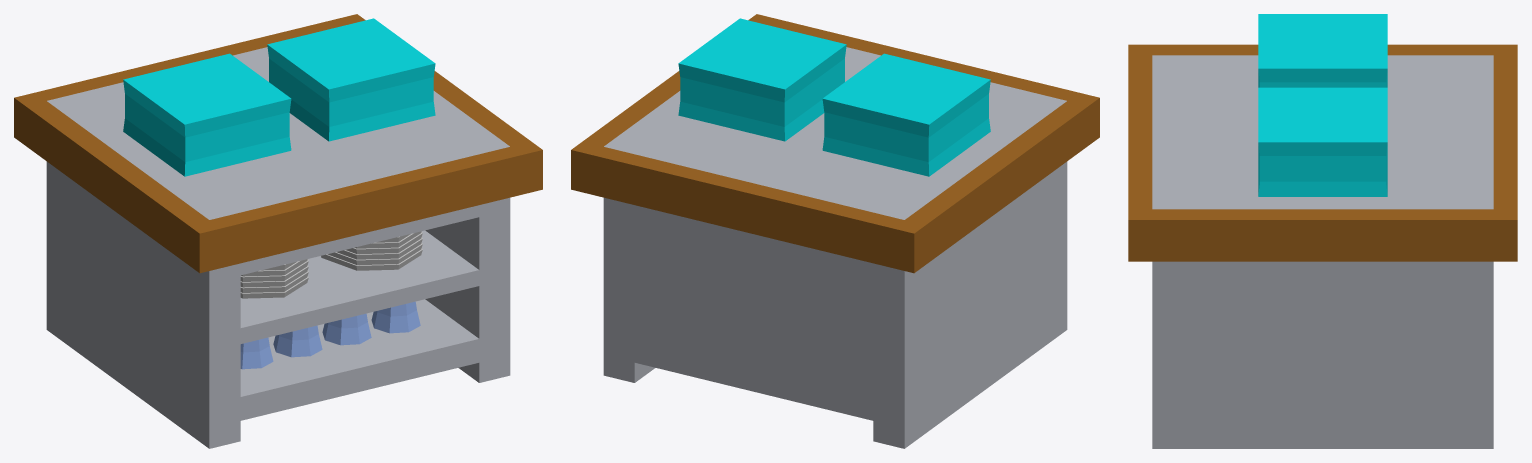
The model's file is fine_china.fbx.
3 views of the same model, side by side, from view 1: azimuth 30°, elevation 25°; view 2: azimuth 150°, elevation 25°; view 3: azimuth 270°, elevation 25° (orthographic). The views are drawn at different scales.
Visible parts, largest first — view 1: base_top.002, paper, glasses, plates; view 2: base_top.002, paper; view 3: base_top.002, paper.
Boxes of the visible parts, left/top/right/bottom form: base_top.002: left=14, top=14, right=542, bottom=448; paper: left=123, top=18, right=435, bottom=176; glasses: left=240, top=301, right=420, bottom=369; plates: left=240, top=231, right=422, bottom=298; base_top.002: left=571, top=14, right=1099, bottom=448; paper: left=678, top=18, right=990, bottom=176; base_top.002: left=1128, top=44, right=1517, bottom=448; paper: left=1258, top=14, right=1387, bottom=196.
Bounding box in the file's own units: 158 × 124 × 148.
